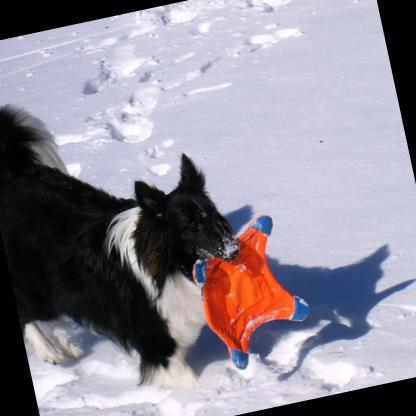Shetland_sheepdog: (0, 59, 262, 407)
